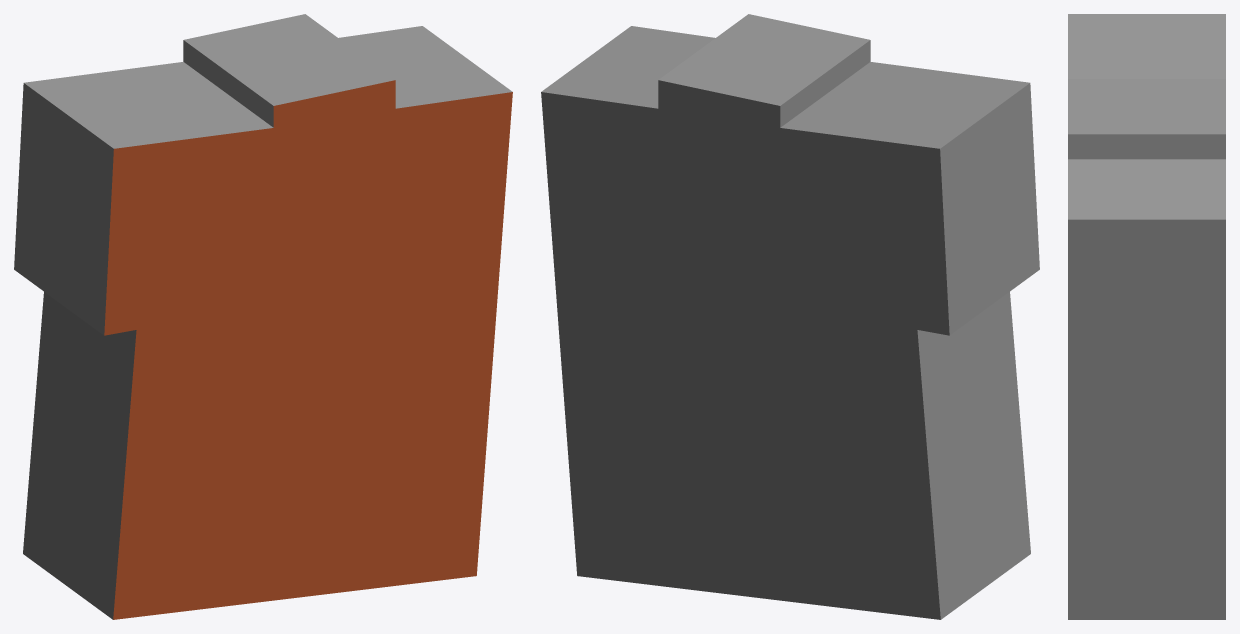
File: construction_4530_assumed_A_Casa_h6m.obj
3 renders of one model, left to right at view 1: azimuth 30°, elevation 25°; view 2: azimuth 150°, elevation 25°; view 3: azimuth 270°, elevation 25°, orthographic. The views are drawn at different scales.
Visible parts, largest first — view 1: construction_4530_assumed_A_Casa; view 2: construction_4530_assumed_A_Casa; view 3: construction_4530_assumed_A_Casa.
Boxes of the visible parts, x1=… form: construction_4530_assumed_A_Casa: x1=14, y1=14, x2=512, y2=619; construction_4530_assumed_A_Casa: x1=541, y1=14, x2=1039, y2=619; construction_4530_assumed_A_Casa: x1=1068, y1=14, x2=1225, y2=619.
Bounding box in the file's own units: 15.68 × 19.05 × 6.
